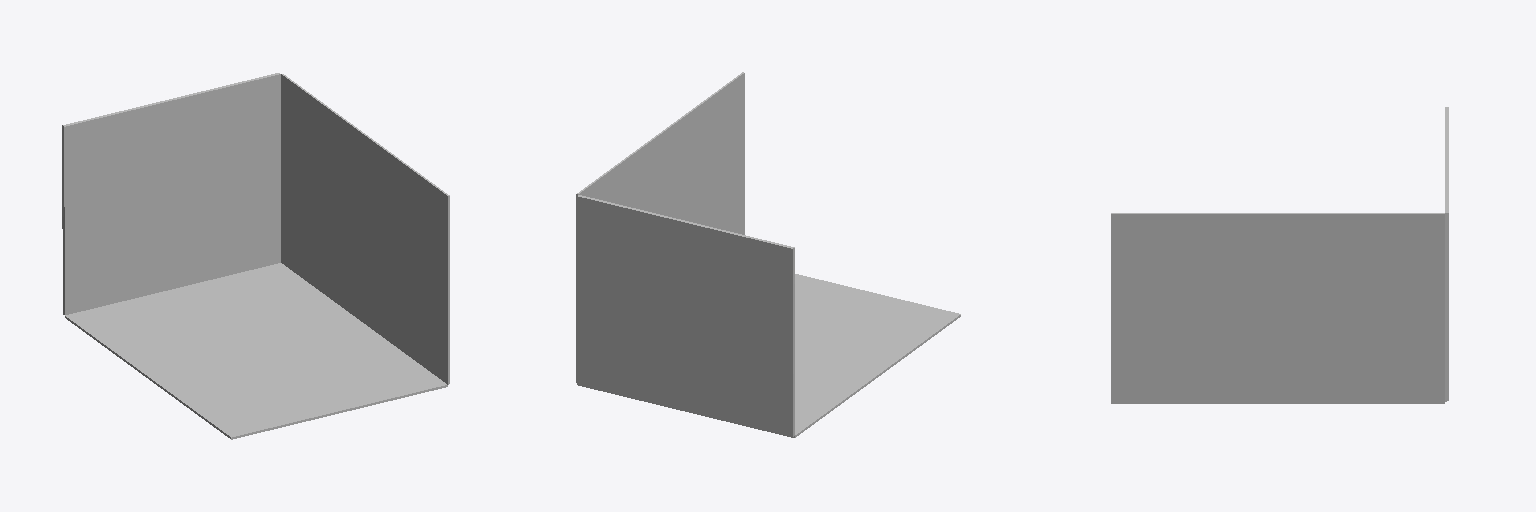
Rendered from ROOM.exported.obj.
3 views of the same model, side by side, from view 1: azimuth 30°, elevation 25°; view 2: azimuth 150°, elevation 25°; view 3: azimuth 270°, elevation 25° (orthographic).
Visible parts, largest first — view 1: Box003, Box001, Box002; view 2: Box003, Box002, Box001; view 3: Box002, Box003.
Boxes of the visible parts, x1,y1,x2,y2 form: Box003: [62, 73, 280, 314]; Box001: [65, 263, 447, 439]; Box002: [281, 74, 449, 384]; Box003: [577, 195, 794, 437]; Box002: [576, 72, 744, 382]; Box001: [578, 274, 960, 437]; Box002: [1111, 213, 1444, 402]; Box003: [1445, 107, 1448, 401].
Size of the model in its own units: 477 by 398 by 637.